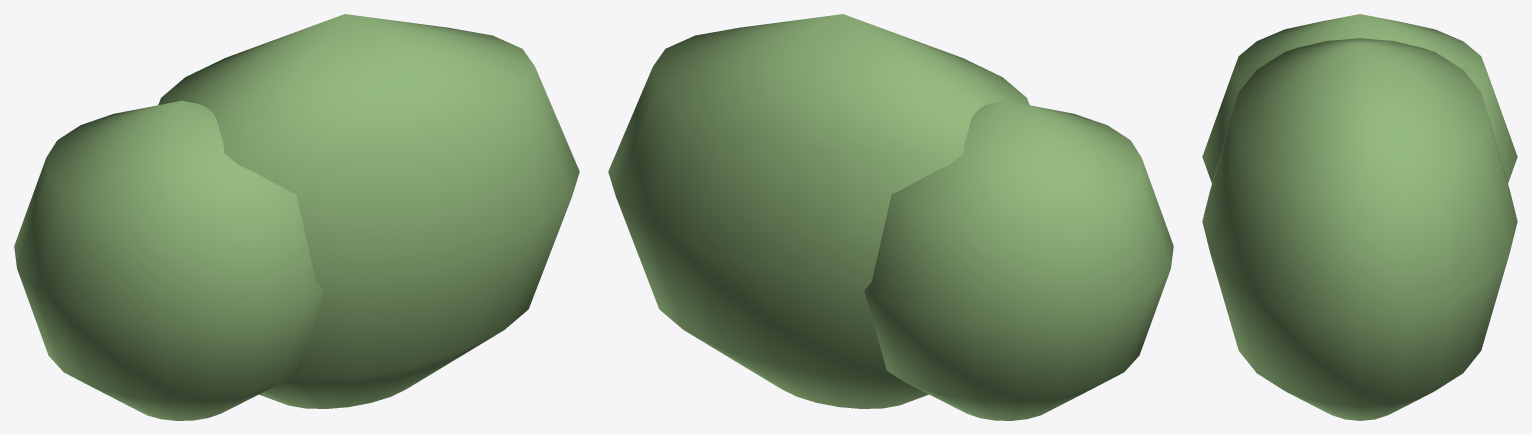
Rendered from Bush 2.fbx.
3 renders of one model, left to right at view 1: azimuth 30°, elevation 25°; view 2: azimuth 150°, elevation 25°; view 3: azimuth 270°, elevation 25°, orthographic. The views are drawn at different scales.
Parts seen in each view (by area): view 1: pSphere10; view 2: pSphere10; view 3: pSphere10.
Part boxes in pixels (x1,y1,x2,y2): pSphere10: (14,14,579,420); pSphere10: (608,14,1173,420); pSphere10: (1202,14,1517,420).
Bounding box in the file's own units: 6.58 × 4.51 × 3.64.
